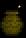pot: (0, 1, 26, 38)
